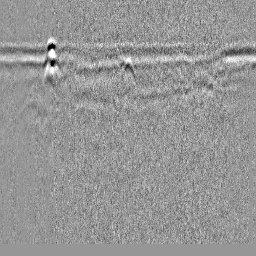cavity: (121, 55, 137, 85)
